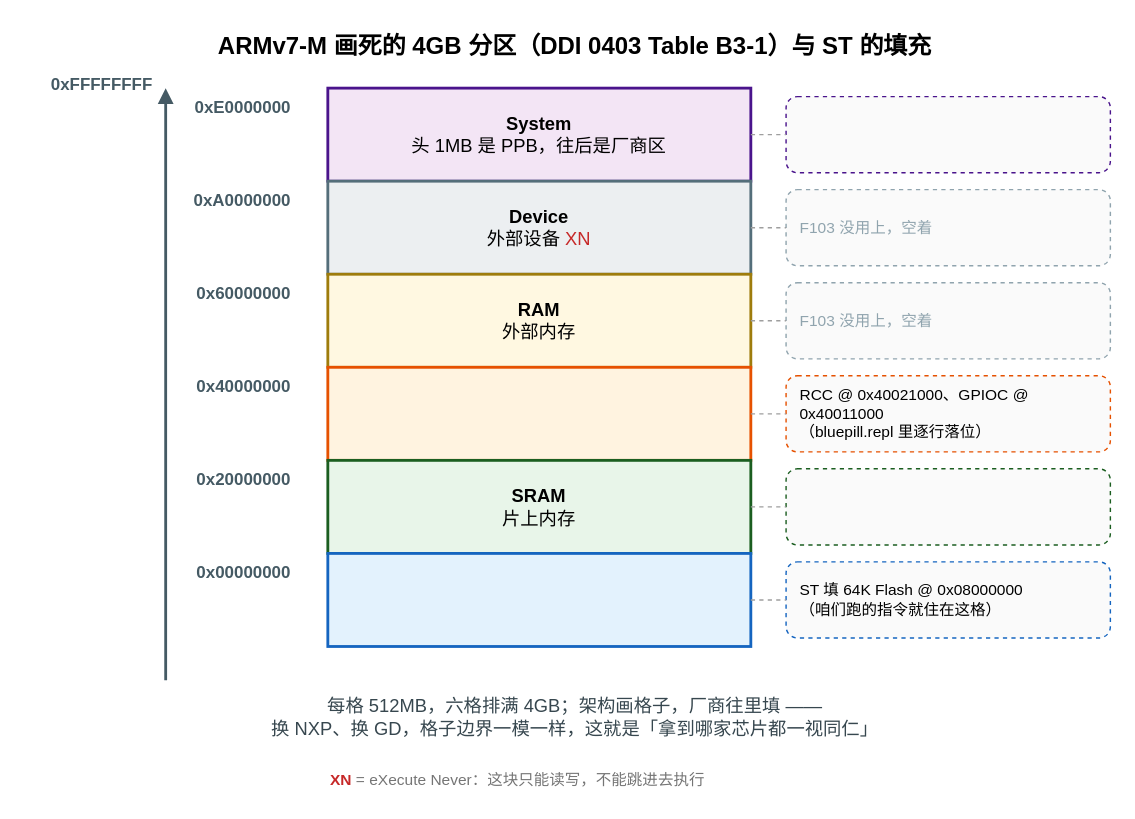
The diagram is 1135 pixels wide and 819 high, and some of its shapes have lost their labels. The shapes that lost their labels are listed below. From the top down, each one's box as (x1, y1, x2, y2) in pixels, then its label:
(785, 95, 1110, 173): NVIC @ 0xE000E000、SysTick （bluepill.repl: nvic @ sysbus 0xE000E000）
(326, 365, 752, 461): Peripheral 片上外设 XN （不许执行）
(785, 467, 1110, 545): ST 填 20K：0x20000000–0x20005000 （initial SP 0x20005000 就是这格的顶）
(326, 551, 752, 647): Code 代码和常量（通常接 Flash）
